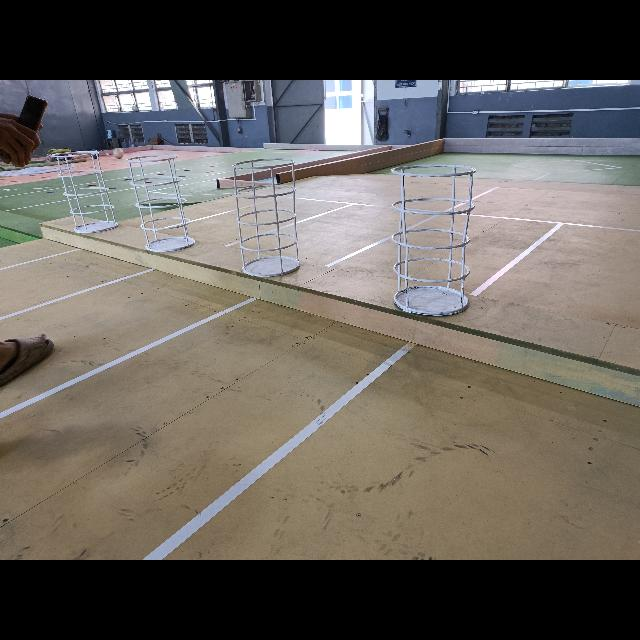S: (391, 164, 477, 316), (233, 157, 303, 277), (128, 153, 197, 255), (53, 148, 118, 235)
